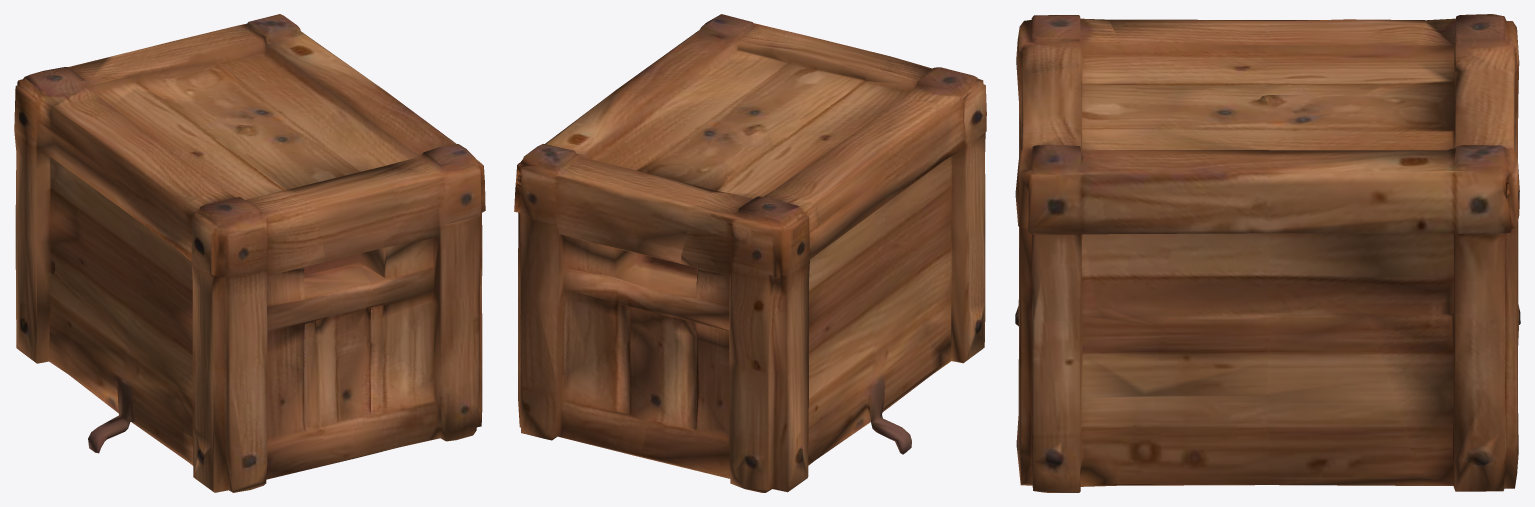
The model's file is crate.glb.
3 renders of one model, left to right at view 1: azimuth 30°, elevation 25°; view 2: azimuth 150°, elevation 25°; view 3: azimuth 270°, elevation 25°, orthographic. The views are drawn at different scales.
Visible parts, largest first — view 1: tripo_node_ca553217-4257-4de4-b1b2-25e07c066020; view 2: tripo_node_ca553217-4257-4de4-b1b2-25e07c066020; view 3: tripo_node_ca553217-4257-4de4-b1b2-25e07c066020.
Boxes of the visible parts, left/top/right/bottom form: tripo_node_ca553217-4257-4de4-b1b2-25e07c066020: left=14, top=14, right=485, bottom=492; tripo_node_ca553217-4257-4de4-b1b2-25e07c066020: left=514, top=14, right=986, bottom=492; tripo_node_ca553217-4257-4de4-b1b2-25e07c066020: left=1015, top=14, right=1520, bottom=492.
Bounding box in the file's own units: 0.7686 × 0.74 × 0.9463.
Materials: 1 (1 with a texture image).
